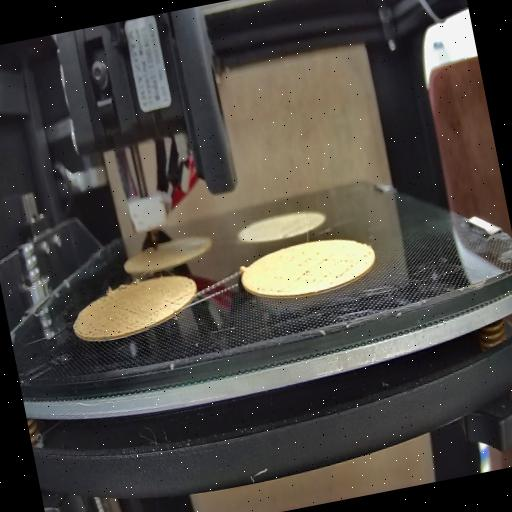under_extrusion: (292, 244, 358, 290), (84, 299, 140, 337), (150, 288, 194, 314), (254, 280, 279, 298)
